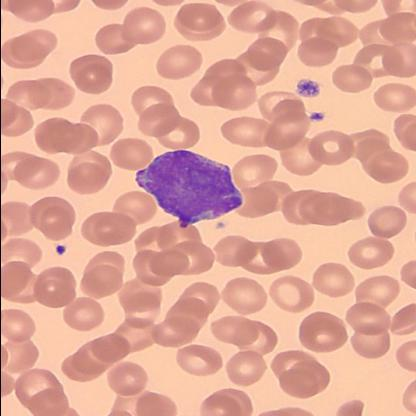Promyelocyte: (136, 150, 242, 226)
